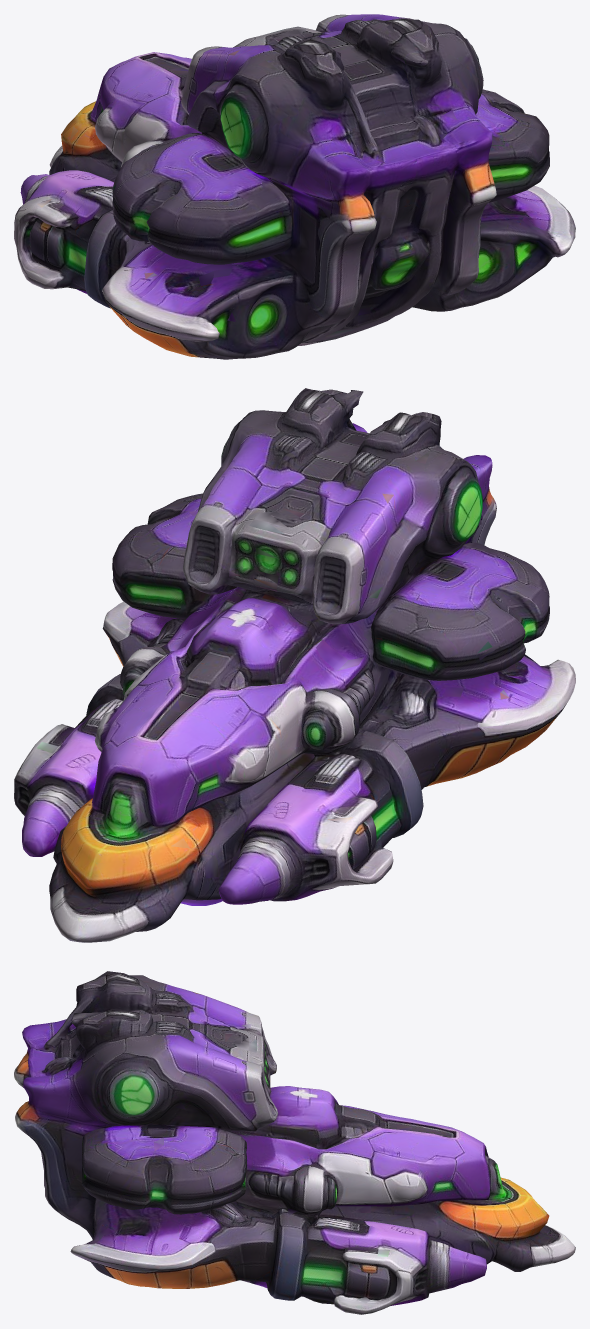
Rendered from bulwark.glb.
3 renders of one model, top to bottom at view 1: azimuth 30°, elevation 25°; view 2: azimuth 150°, elevation 25°; view 3: azimuth 270°, elevation 25°, orthographic. The views are drawn at different scales.
Parts seen in each view (by area): view 1: Mesh_0.020; view 2: Mesh_0.020; view 3: Mesh_0.020.
Boxes of the visible parts, <box> form: Mesh_0.020: <box>14,14,575,359</box>; Mesh_0.020: <box>14,388,575,942</box>; Mesh_0.020: <box>14,971,575,1314</box>.
Bounding box in the file's own units: 1.37 × 1.1 × 1.91.
Materials: 1 (1 with a texture image).
